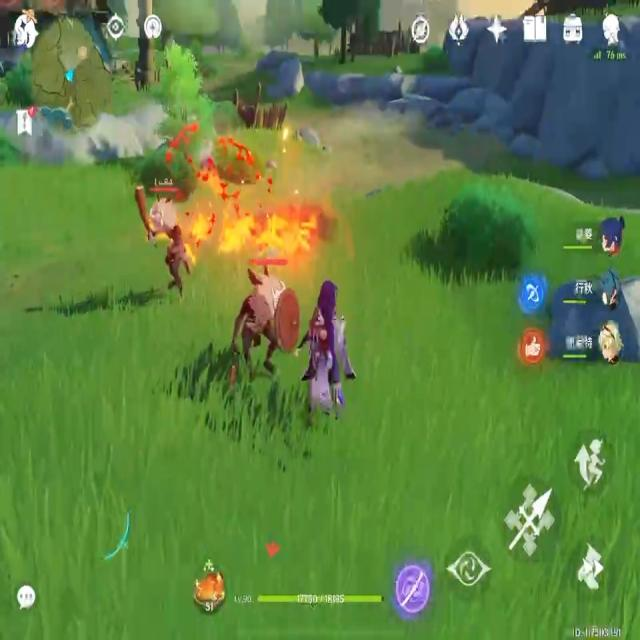genshin-hilichurls: (230, 258, 302, 398), (133, 180, 200, 301)
